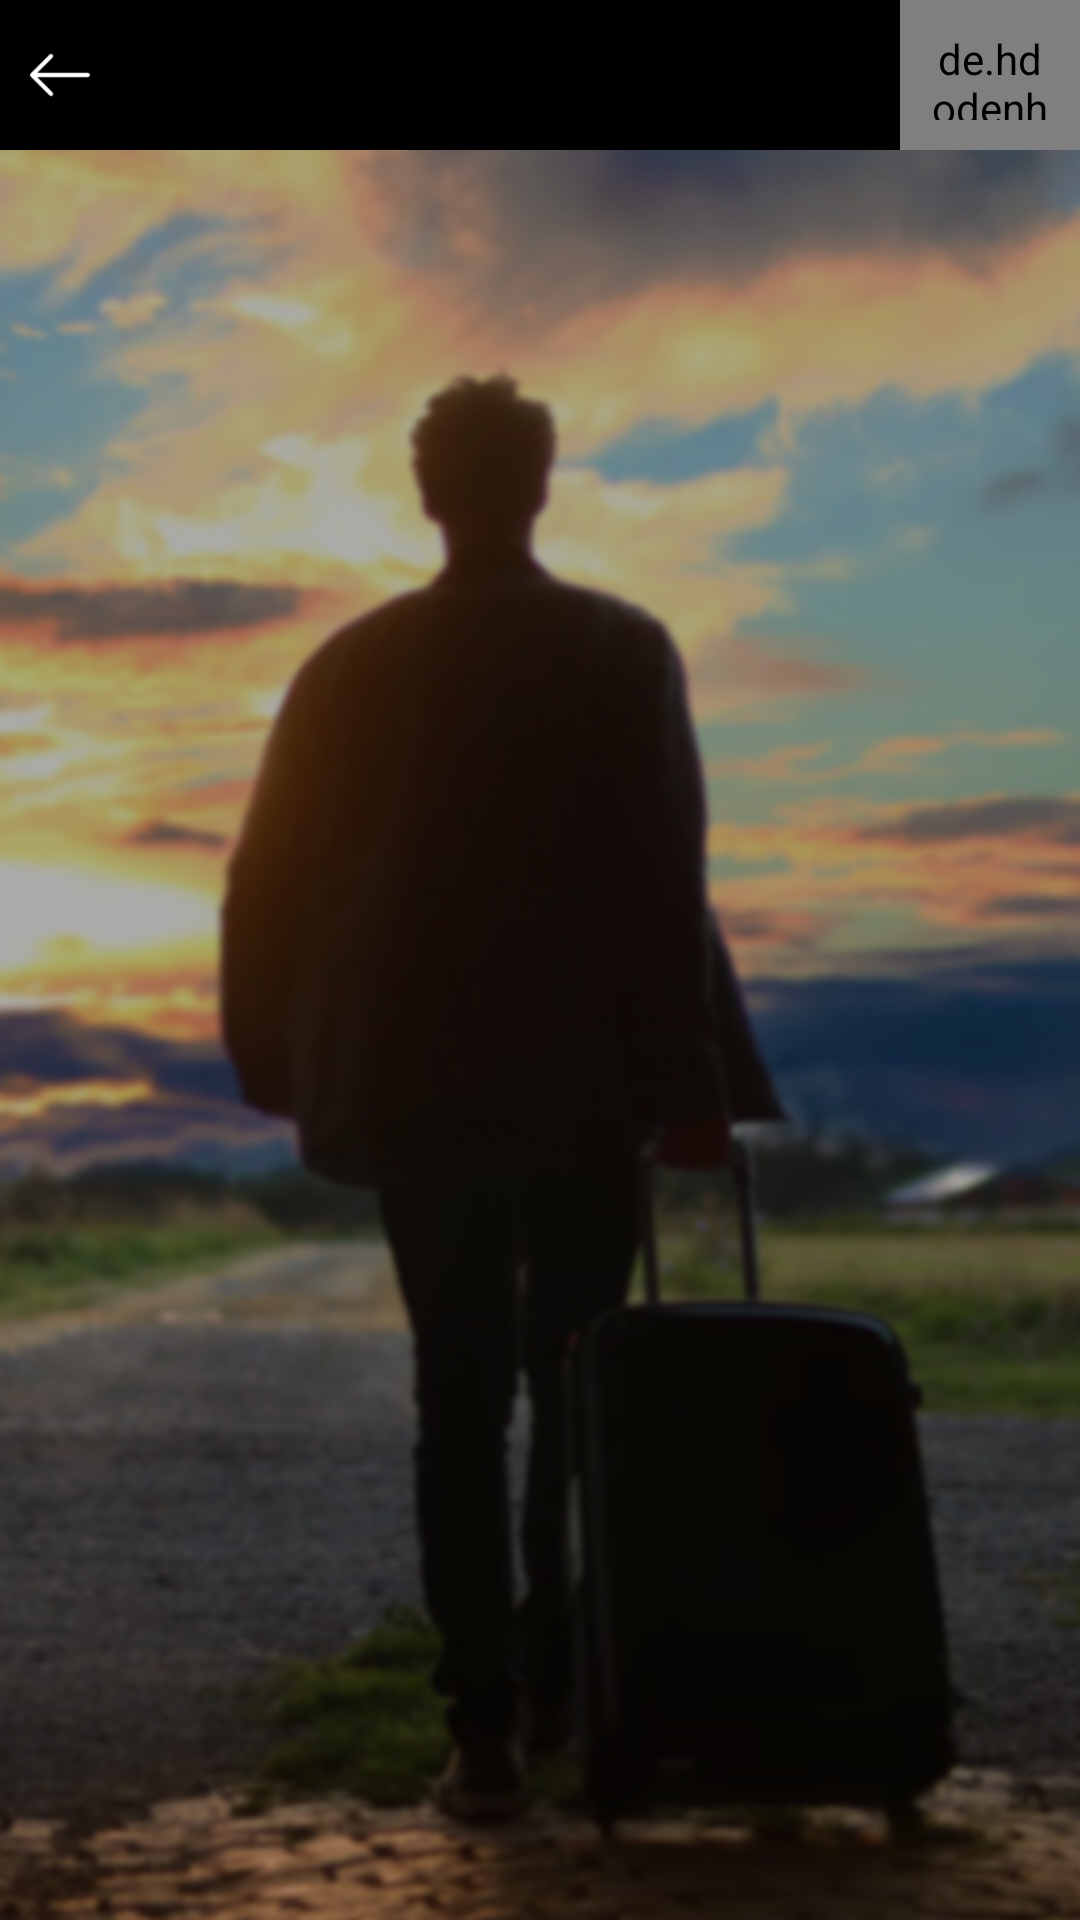

Icons on this 1080 × 1920 Android screen, each with its box as (x1, y1, x2, y2):
back: (30, 53, 90, 97)
